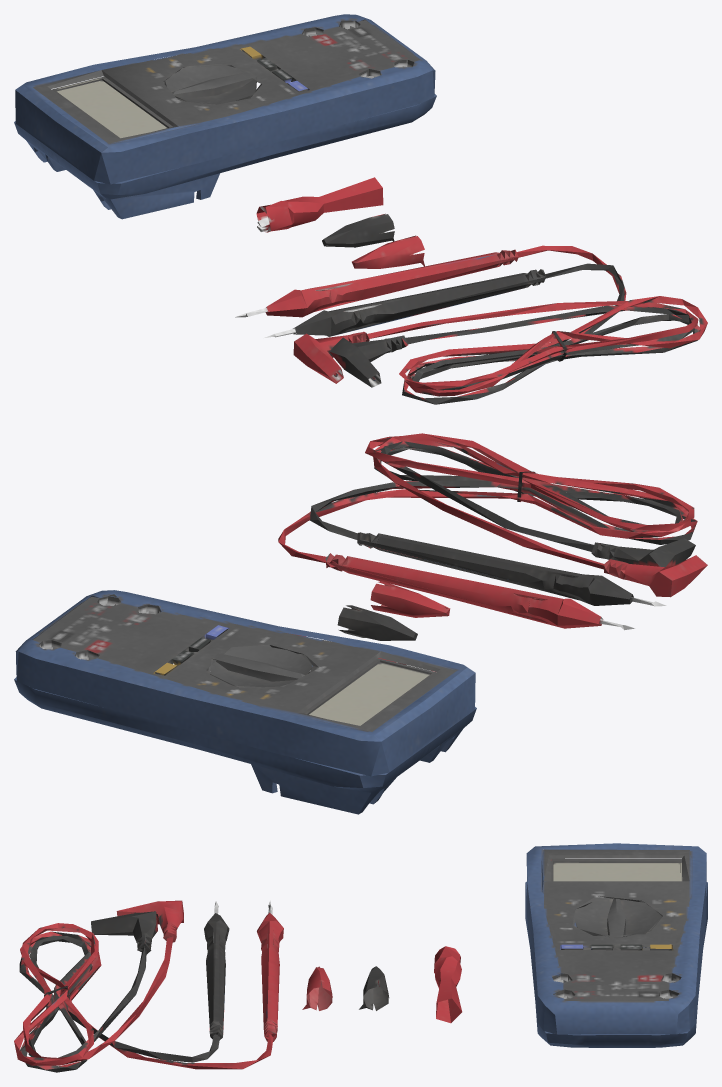
Rendered from testingtool_multimeter_digital_b01.glb.
The picture shows the model from 3 angles, top to bottom: view 1: azimuth 30°, elevation 25°; view 2: azimuth 150°, elevation 25°; view 3: azimuth 270°, elevation 25°; orthographic projection. The views are drawn at different scales.
Visible parts, largest first — view 1: testingtool_multimeter_digital_b01_lod1; view 2: testingtool_multimeter_digital_b01_lod1; view 3: testingtool_multimeter_digital_b01_lod1.
Boxes of the visible parts, <box> form: testingtool_multimeter_digital_b01_lod1: <box>14,14,707,404</box>; testingtool_multimeter_digital_b01_lod1: <box>14,433,707,814</box>; testingtool_multimeter_digital_b01_lod1: <box>14,843,707,1072</box>.
Bounding box in the file's own units: 0.187 × 0.0407 × 0.3361.
Materials: 1 (1 with a texture image).
